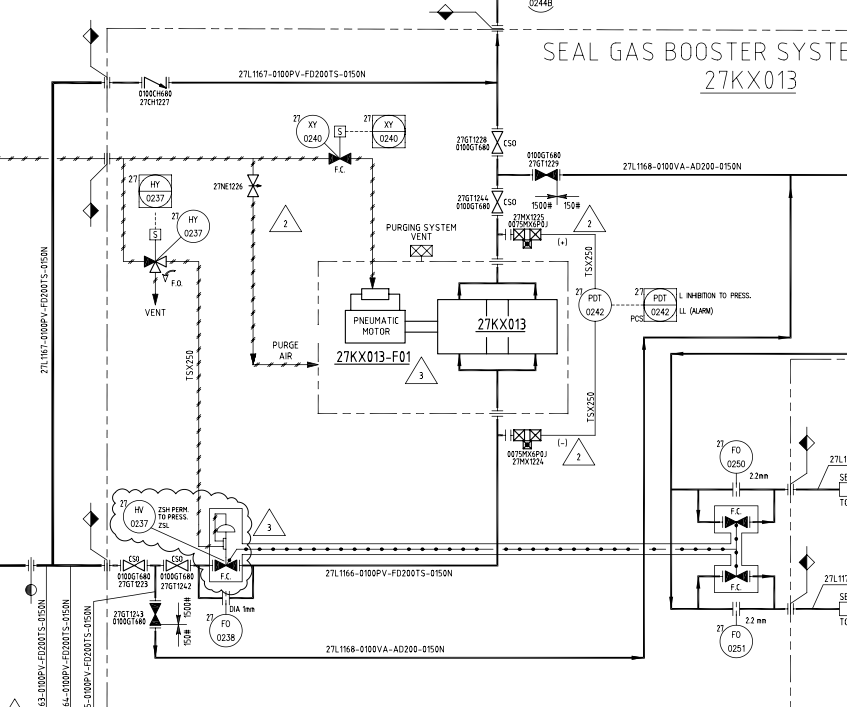Instrument: (170, 206, 221, 249), (713, 620, 758, 662), (575, 283, 614, 327), (289, 112, 330, 150), (118, 495, 157, 533), (714, 438, 754, 475)
Instrument-square: (361, 108, 412, 152), (127, 169, 176, 213), (633, 286, 678, 326)
